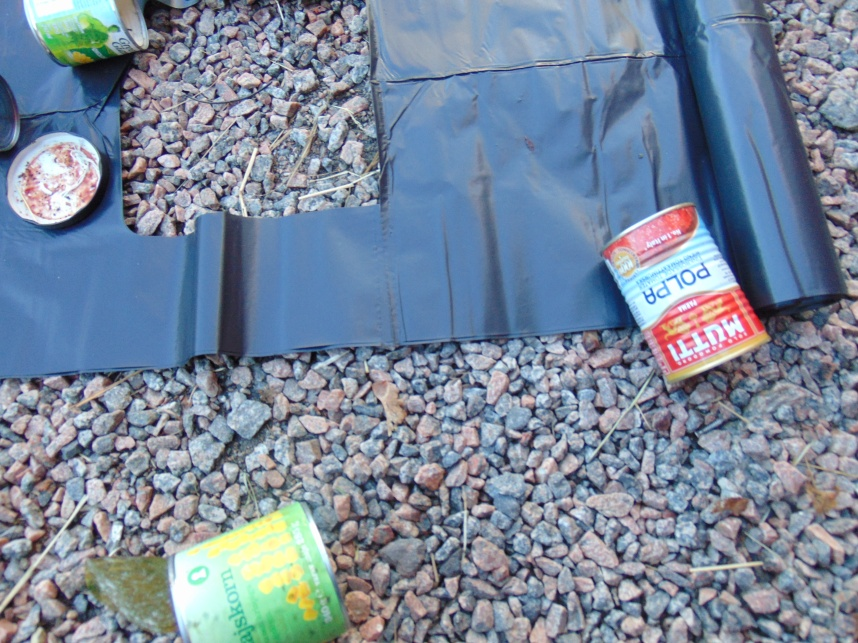metal: (7, 130, 105, 233), (85, 546, 172, 636), (163, 1, 200, 9)
metal_can: (599, 201, 771, 393), (166, 499, 351, 643), (20, 1, 150, 69), (1, 72, 20, 154)
